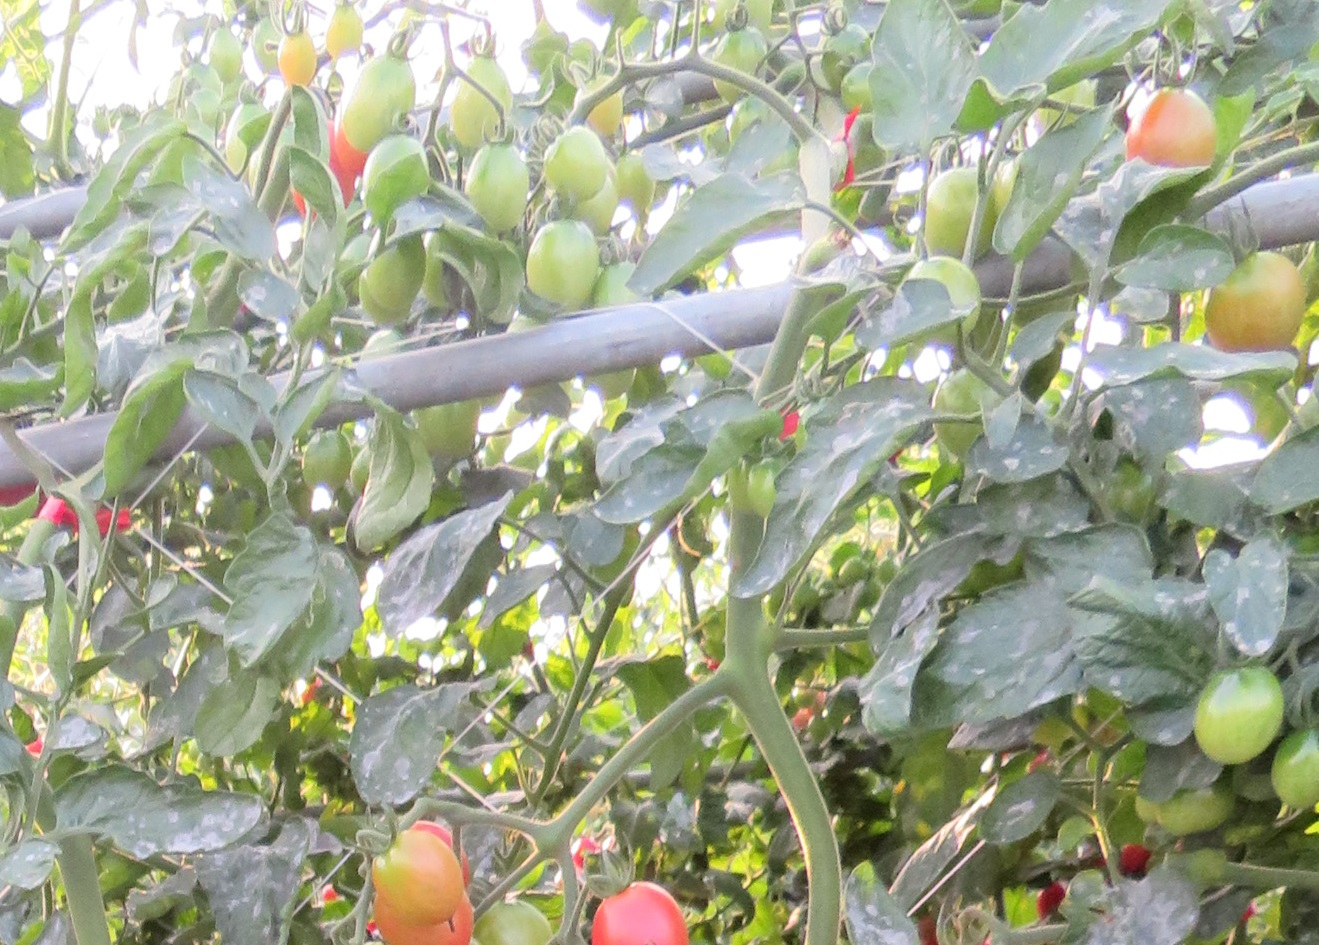green: (1195, 252, 1312, 344), (1195, 659, 1290, 766), (339, 51, 414, 155), (918, 165, 998, 260), (526, 218, 601, 308), (905, 256, 983, 337), (467, 139, 528, 228), (457, 56, 511, 149), (548, 120, 608, 202), (366, 235, 427, 314), (709, 29, 765, 107), (1154, 783, 1241, 834), (413, 397, 480, 461), (1268, 731, 1319, 810), (475, 896, 553, 945), (302, 430, 354, 495), (363, 134, 430, 184), (594, 259, 655, 308), (208, 24, 246, 82), (322, 10, 365, 57)
orange: (365, 828, 465, 932), (1121, 87, 1220, 173), (273, 22, 317, 95)
red: (591, 887, 688, 945)
